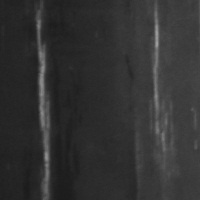scratches: (31, 10, 57, 199), (147, 16, 172, 154)
